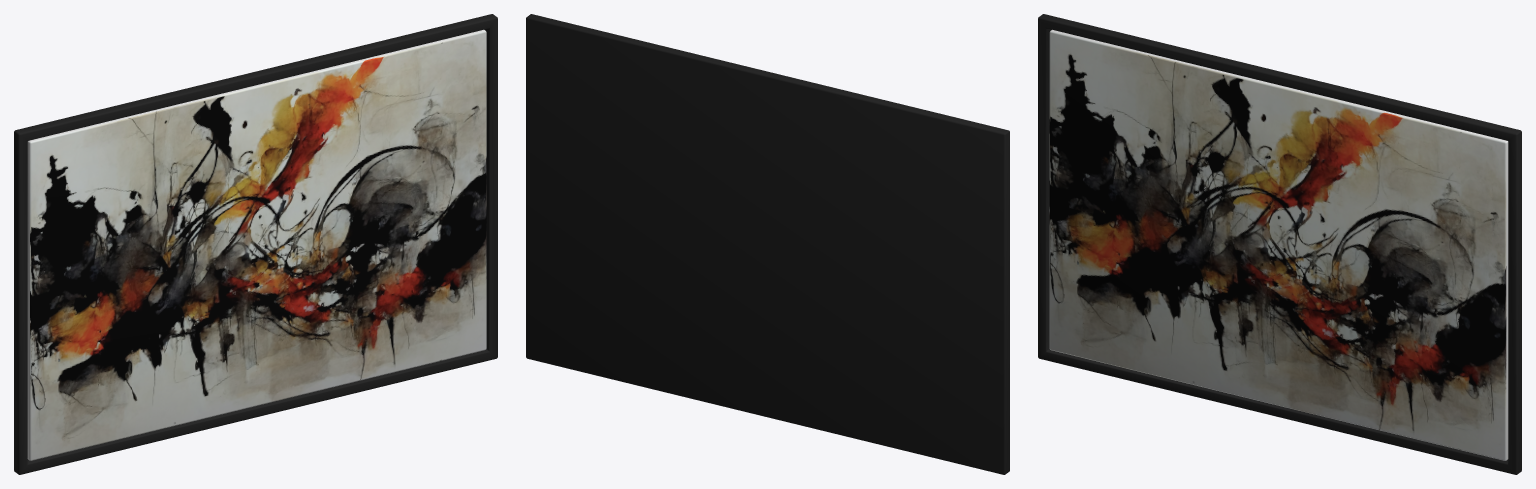
Rendered from Picture.glb.
The picture shows the model from 3 angles, left to right: view 1: azimuth 30°, elevation 25°; view 2: azimuth 150°, elevation 25°; view 3: azimuth 330°, elevation 25°; orthographic projection.
Parts seen in each view (by area): view 1: Abstract Decoration Picture or Painting; view 2: Abstract Decoration Picture or Painting; view 3: Abstract Decoration Picture or Painting.
Boxes of the visible parts, x1,y1,x2,y2 form: Abstract Decoration Picture or Painting: (14, 14, 497, 474); Abstract Decoration Picture or Painting: (526, 14, 1009, 474); Abstract Decoration Picture or Painting: (1038, 14, 1521, 474).
Bounding box in the file's own units: 1.57 × 1.07 × 0.032.
3 materials, 1 textured.
